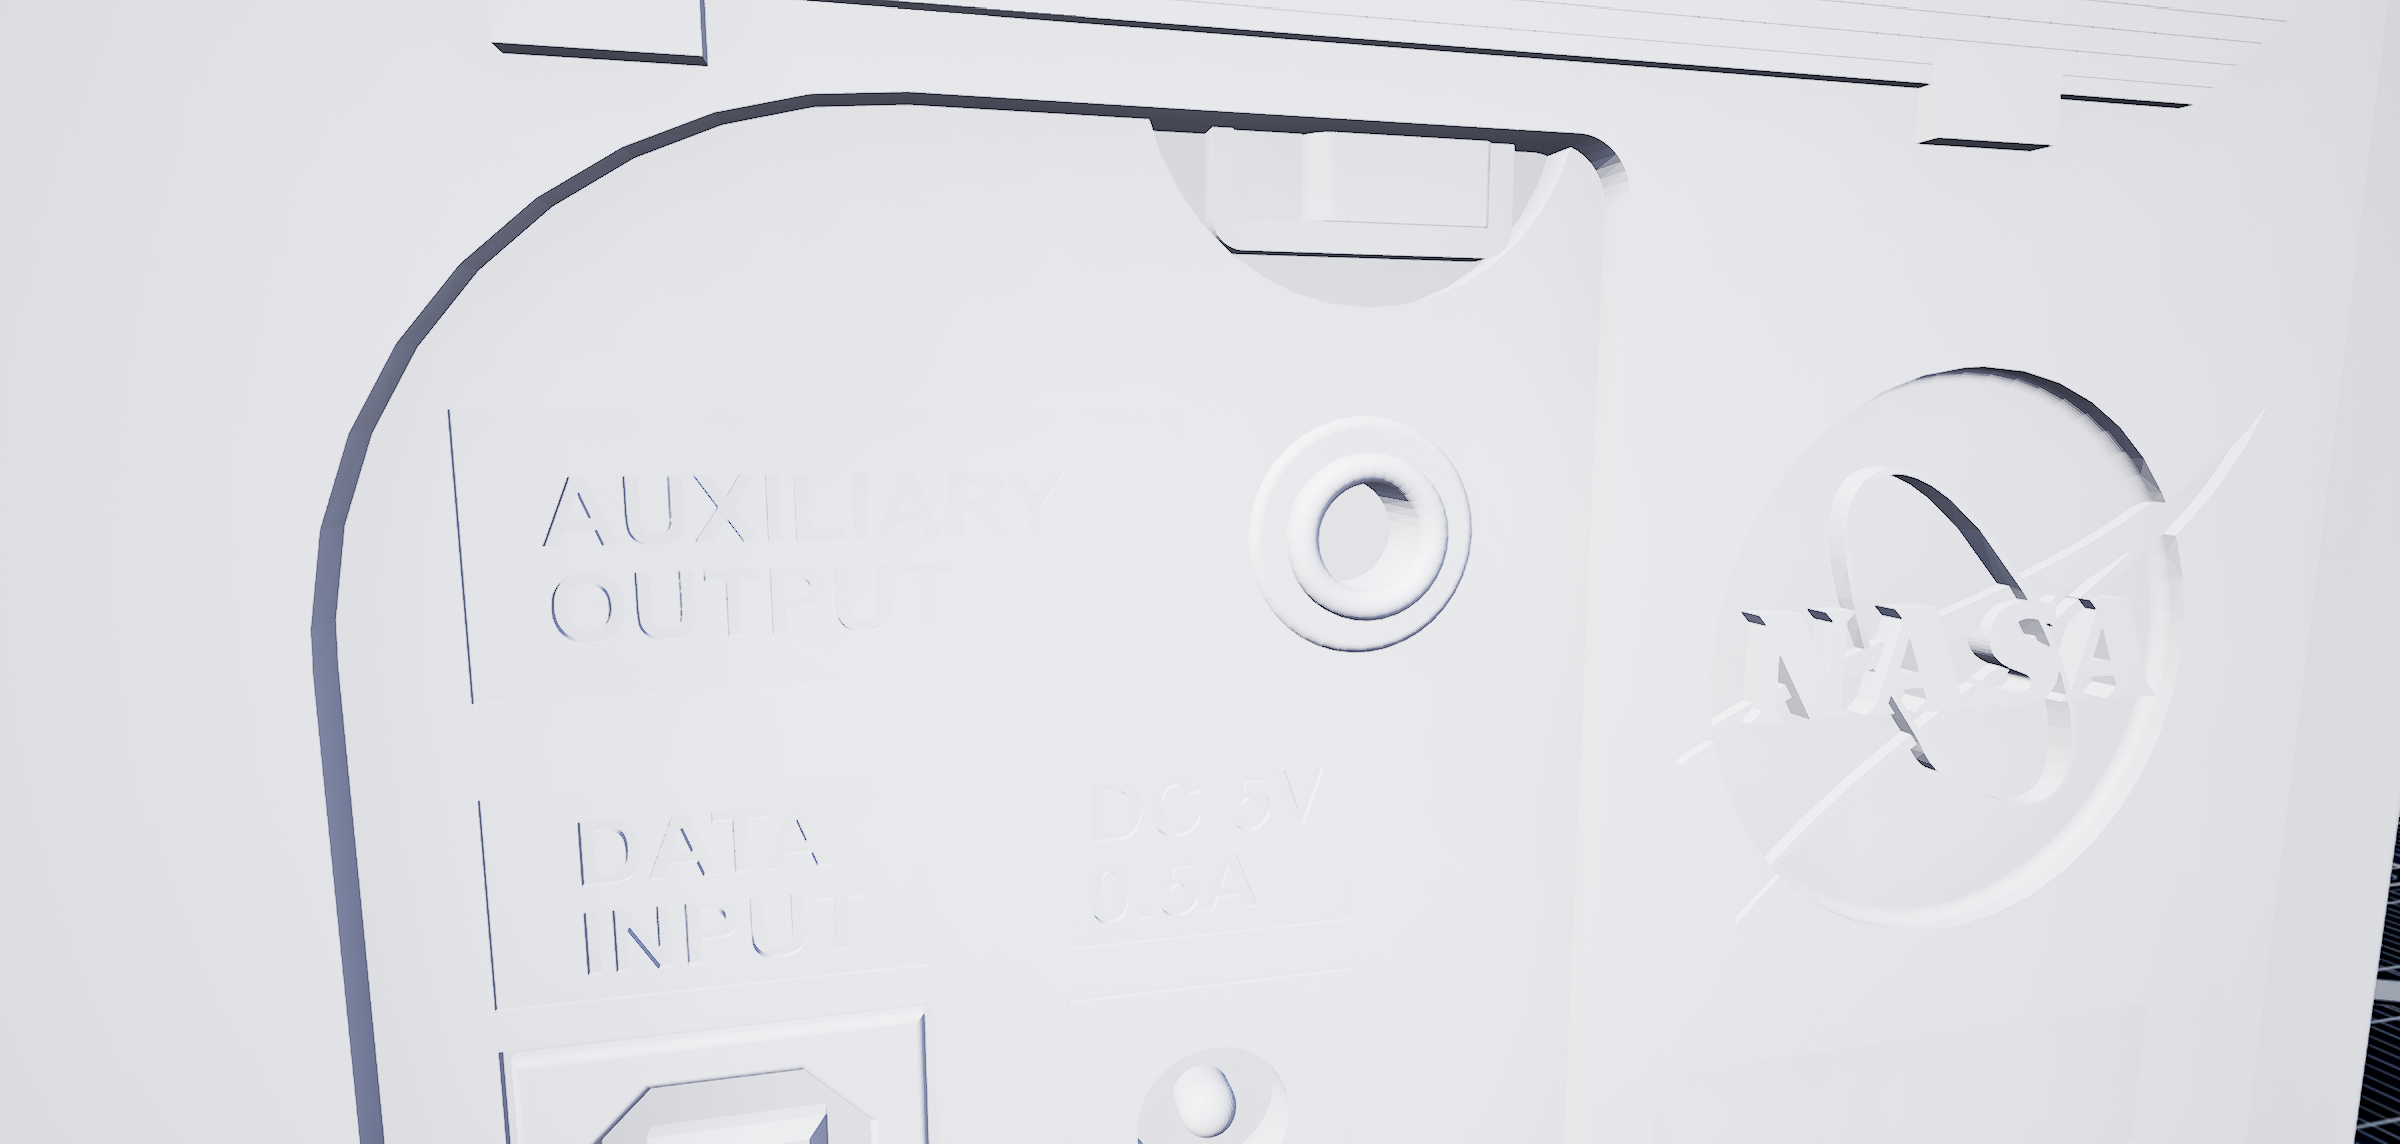aux: (1234, 384, 1485, 669)
dc: (1130, 1038, 1301, 1144)
usb: (556, 1080, 888, 1144)
